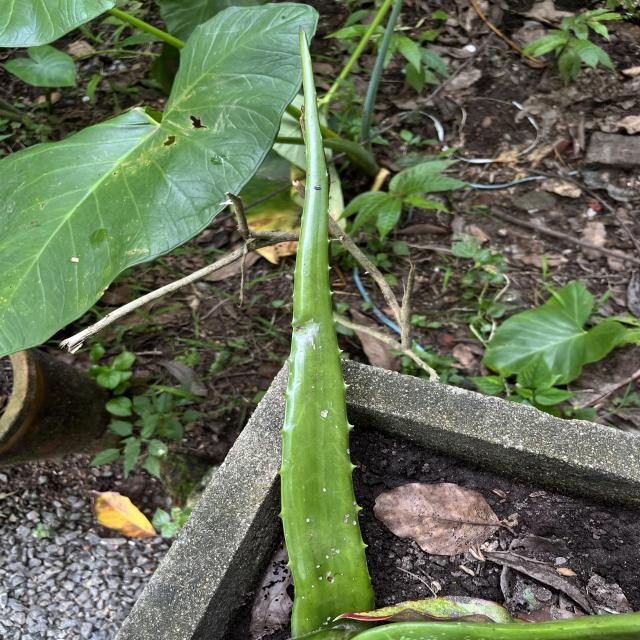Aloe vera: (269, 19, 382, 634)
